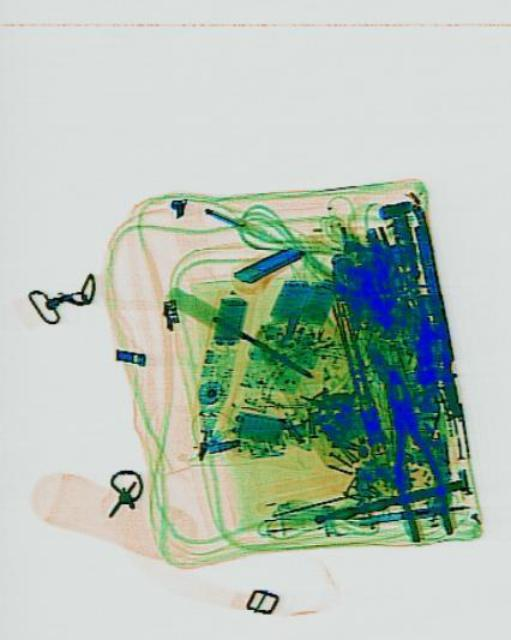Pliers: (369, 362, 454, 544)
